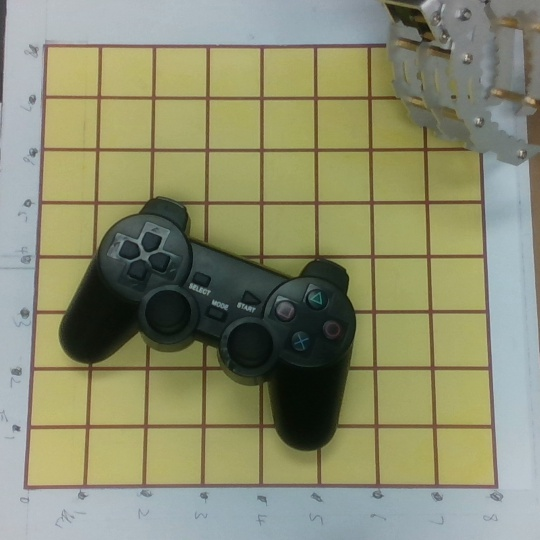remote: (57, 193, 356, 453)
